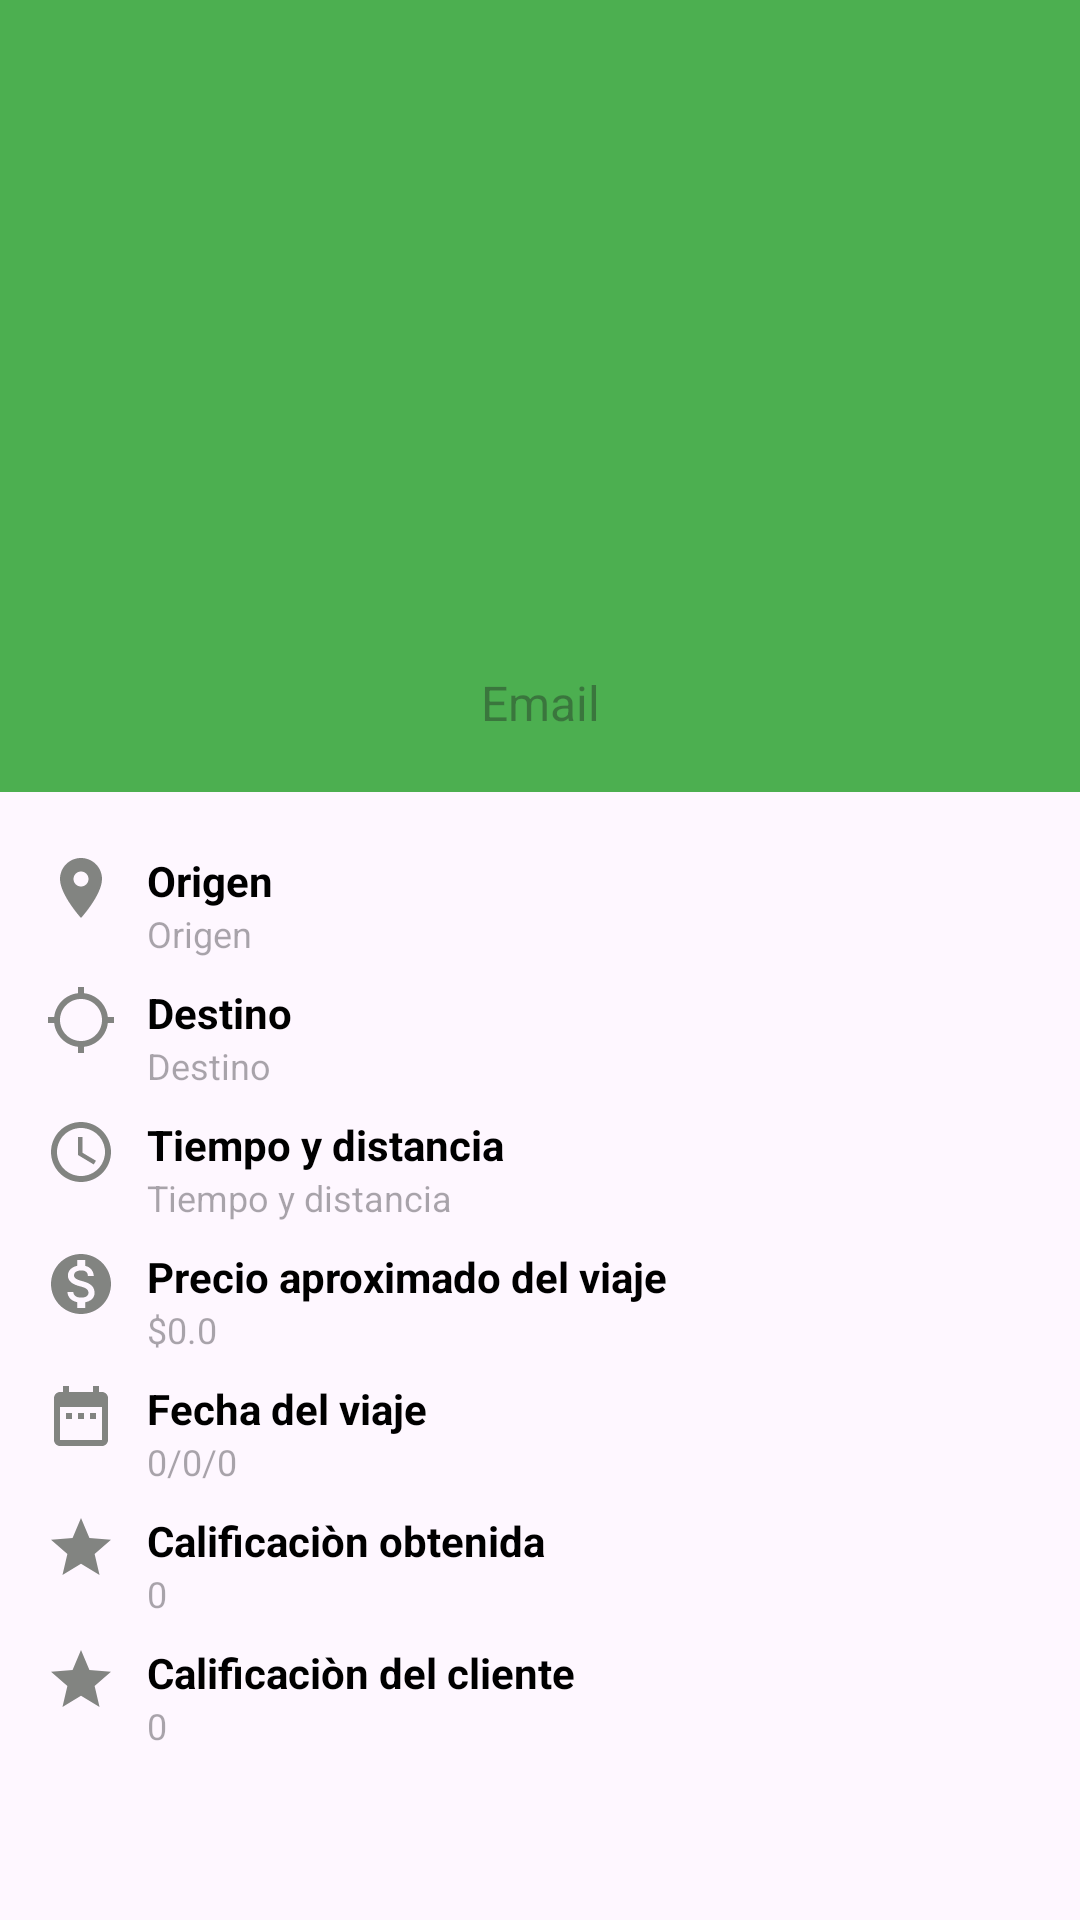

Locate icon controls on the screen. Image size 1080 x 1920, boxes as {"x1": x1, "y1": y1, "x2": x2, "y2": y2}.
date trip: {"x1": 54, "y1": 1386, "x2": 108, "y2": 1446}
dest trip: {"x1": 48, "y1": 987, "x2": 114, "y2": 1053}
origin trip: {"x1": 60, "y1": 858, "x2": 102, "y2": 918}
price trip: {"x1": 51, "y1": 1254, "x2": 111, "y2": 1314}
star rating: {"x1": 51, "y1": 1518, "x2": 111, "y2": 1575}, {"x1": 51, "y1": 1650, "x2": 111, "y2": 1707}
time trip: {"x1": 51, "y1": 1122, "x2": 111, "y2": 1182}
